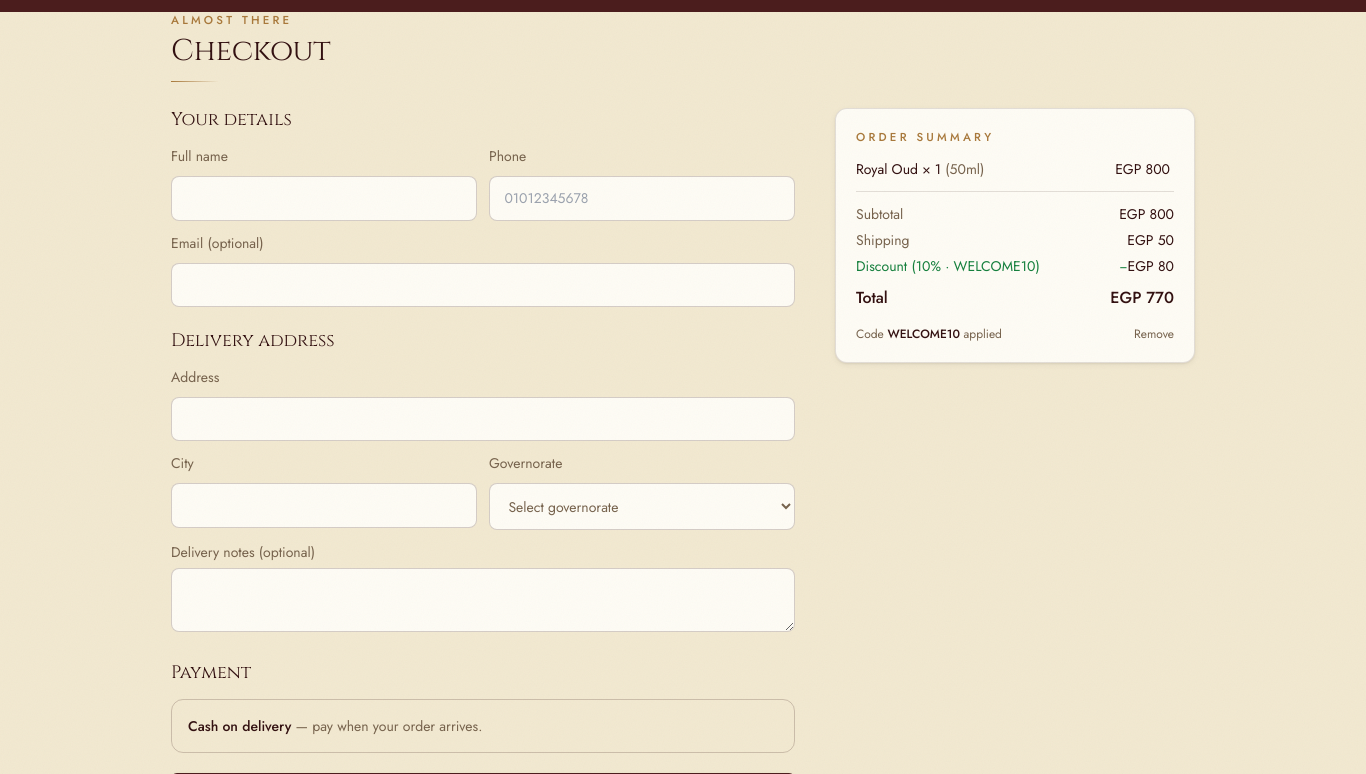
Checkout › lets the customer remove an applied discount code
Expected: the text "Royal Oud × 1 (50ml)" is shown, x1=856 y1=158 x2=984 y2=178
Expected: the text "Discount (10% · WELCOME10)" is shown, x1=856 y1=255 x2=1040 y2=275
Click the button "Remove" at (1154, 333), box x1=1134 y1=325 x2=1174 y2=341
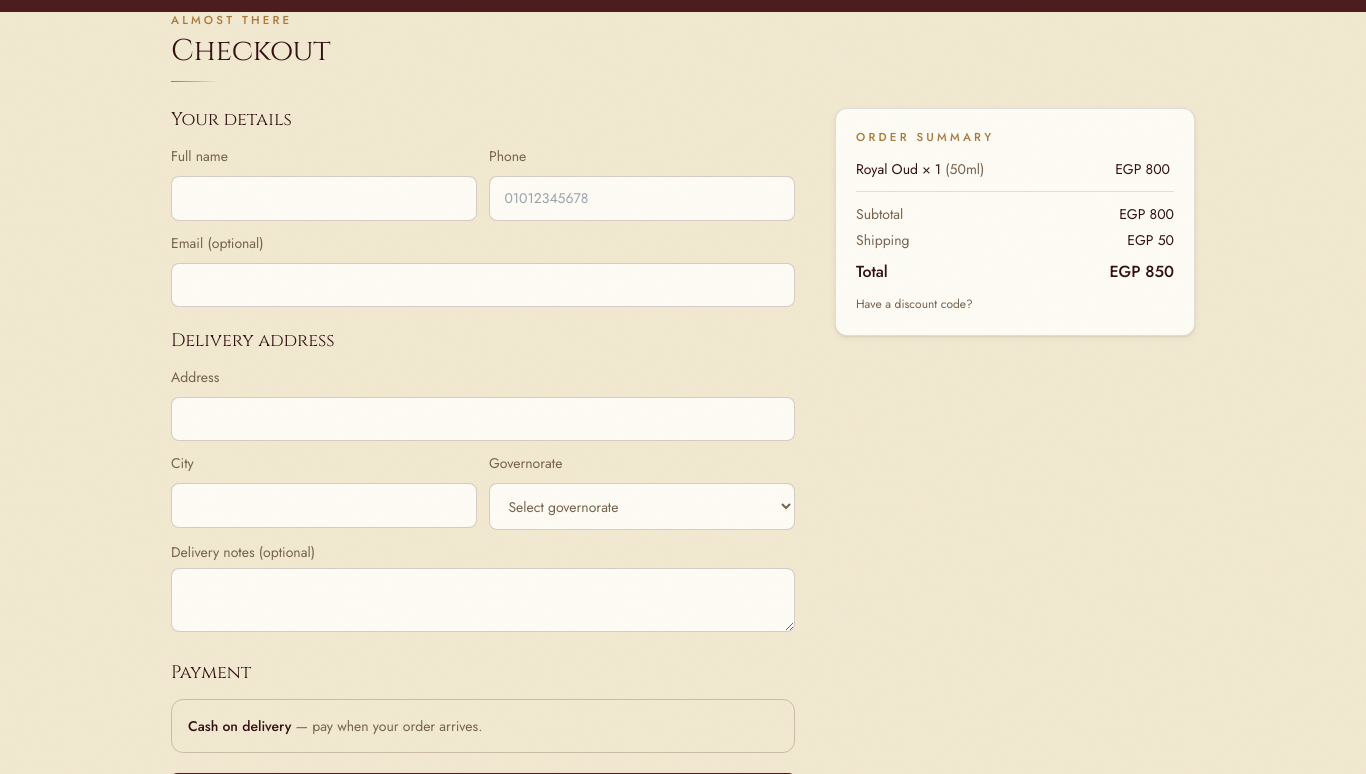
Now the text "Discount (10%" is gone
Now the button "Have a discount code?" is shown, box x1=856 y1=295 x2=973 y2=311
